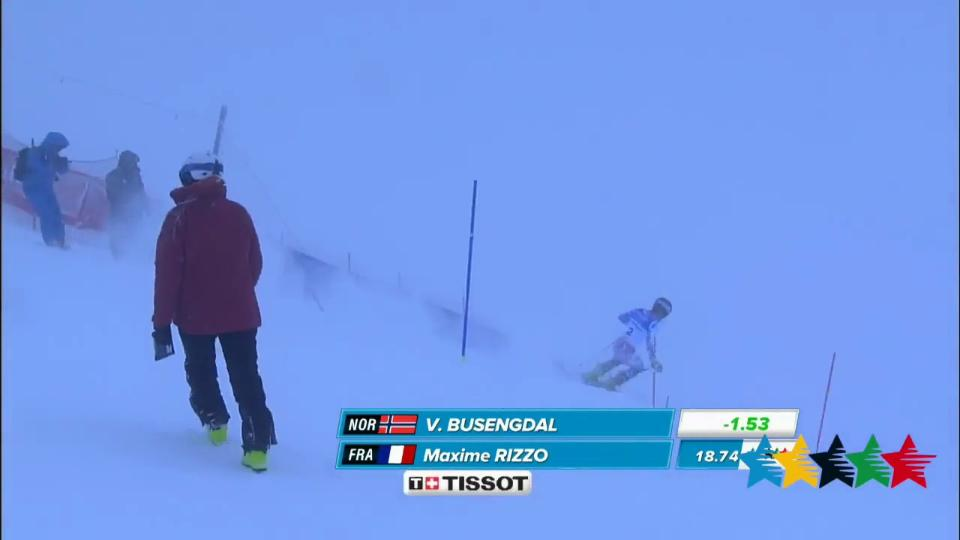gate: (438, 175, 501, 357)
